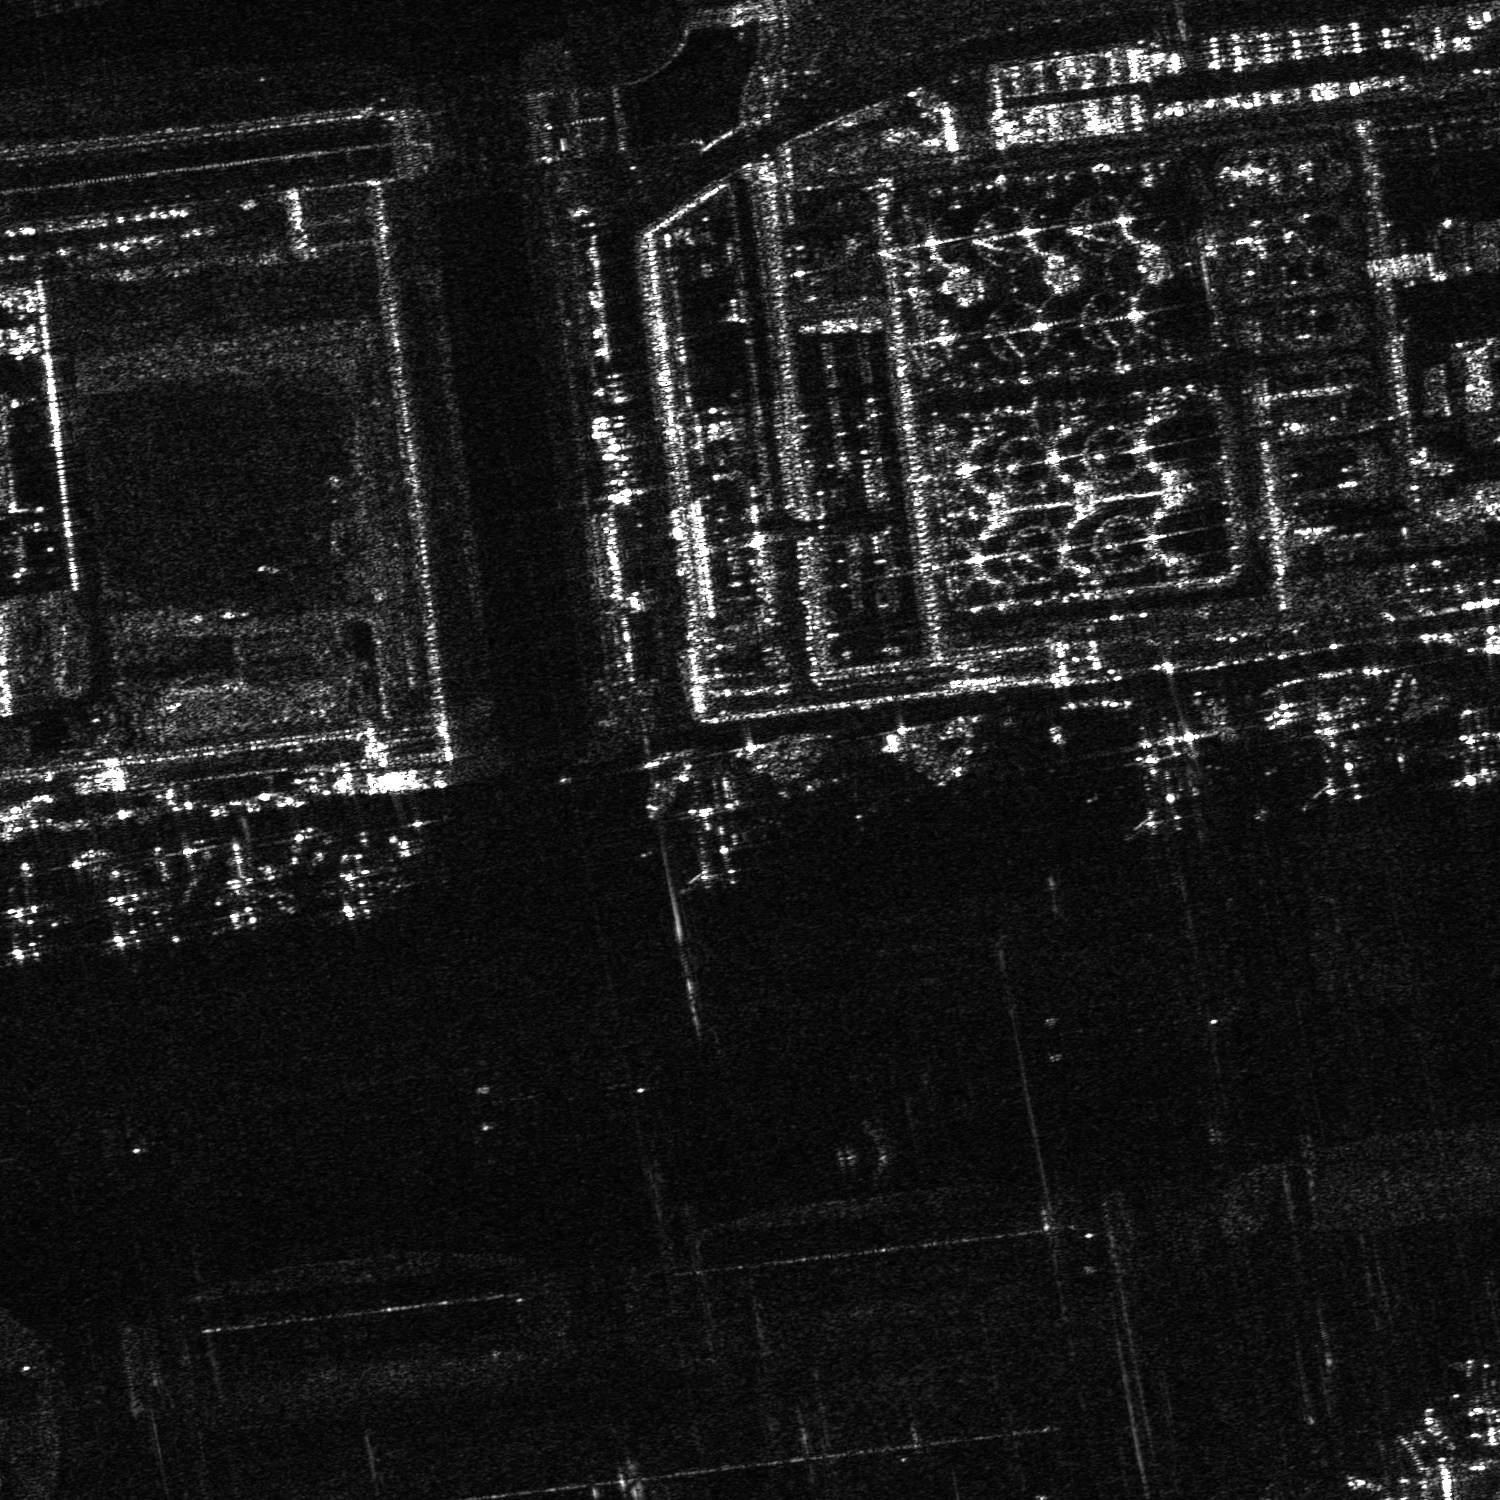Boeing787: (100, 861, 168, 946), (218, 843, 279, 929), (328, 838, 390, 920)
other: (1093, 734, 1240, 837), (1266, 707, 1407, 810), (1440, 701, 1499, 787)
